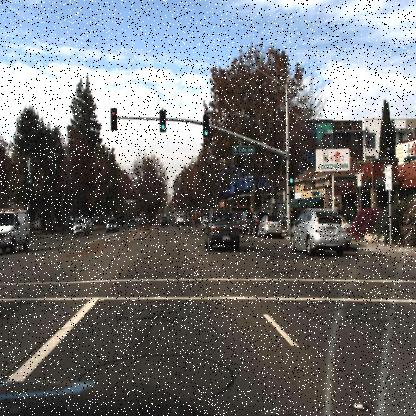car: (288, 203, 345, 251), (202, 209, 241, 251), (0, 207, 30, 256), (256, 211, 284, 238), (68, 213, 90, 240), (256, 214, 283, 236), (70, 216, 90, 237), (246, 210, 260, 237), (156, 212, 171, 231), (197, 213, 209, 236), (104, 215, 119, 233), (238, 209, 248, 234), (288, 160, 296, 190), (175, 212, 185, 228)
trafficLight-Green: (201, 112, 213, 142), (160, 107, 168, 132), (202, 124, 210, 140), (287, 175, 296, 189), (158, 119, 166, 134)
trafficLight-Red: (109, 106, 117, 124)
trafficLight-RedLeft: (108, 104, 118, 135)
